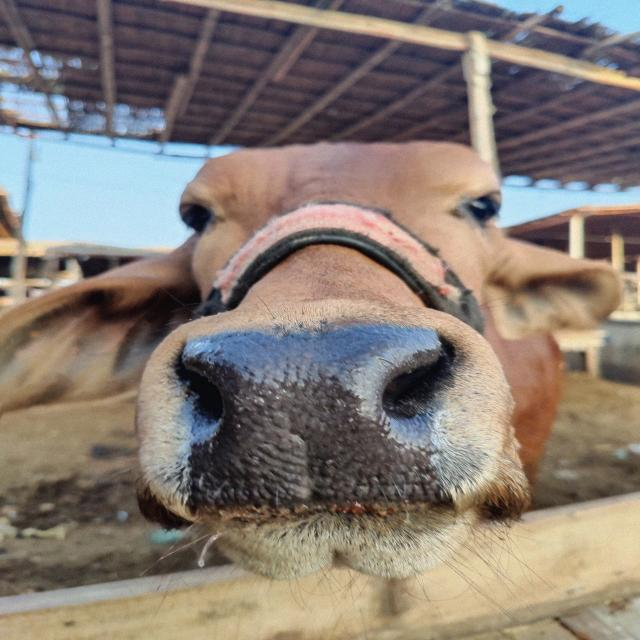muzzles: (151, 321, 482, 519)
